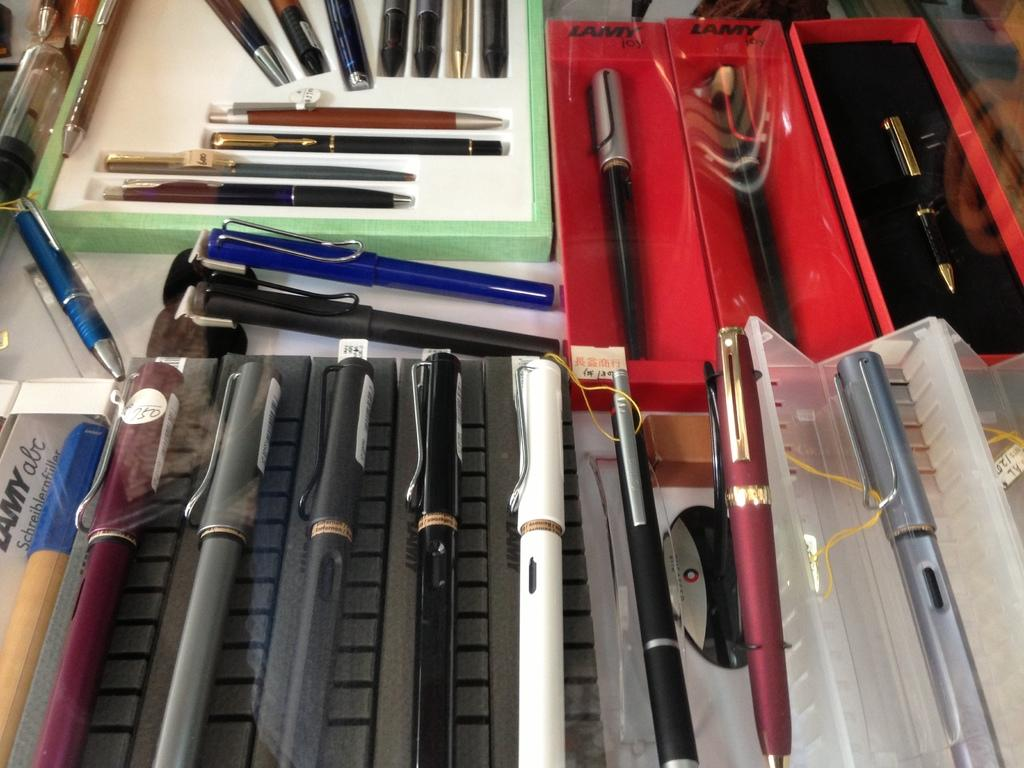pen: (826, 355, 996, 767), (33, 356, 184, 767), (152, 351, 280, 767), (275, 353, 382, 763), (0, 417, 108, 767), (495, 353, 586, 767), (613, 371, 701, 767), (714, 321, 789, 767), (392, 349, 467, 767), (207, 220, 558, 307), (586, 60, 652, 381), (9, 204, 120, 394), (717, 61, 779, 353), (890, 103, 965, 301), (65, 0, 140, 166), (99, 155, 417, 185), (210, 100, 505, 131), (99, 182, 424, 209), (206, 0, 291, 86), (210, 129, 518, 150), (324, 4, 376, 103), (276, 0, 332, 82), (371, 1, 408, 71), (480, 0, 511, 82), (65, 3, 106, 54), (413, 4, 440, 79), (447, 0, 470, 78), (26, 0, 63, 45)
